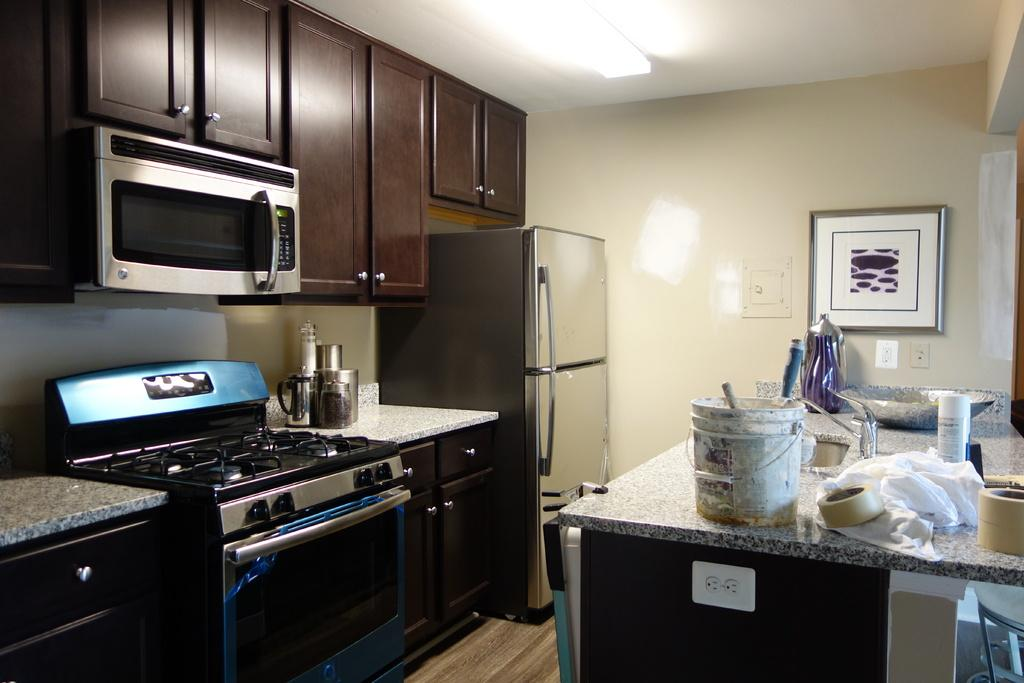cabinet_door: (292, 23, 366, 284), (5, 25, 68, 302), (104, 8, 190, 136), (378, 58, 424, 280), (212, 7, 274, 148), (6, 541, 138, 600), (440, 479, 494, 601), (435, 82, 480, 200), (485, 106, 519, 208), (410, 509, 436, 630), (438, 435, 500, 480), (402, 449, 436, 494)
handle: (246, 181, 288, 291), (534, 264, 558, 371), (534, 374, 556, 470), (70, 562, 96, 588), (376, 269, 393, 296), (404, 464, 418, 490), (355, 264, 368, 292), (440, 494, 458, 514), (204, 111, 222, 129), (427, 507, 441, 526), (180, 102, 193, 122), (466, 444, 480, 462)
